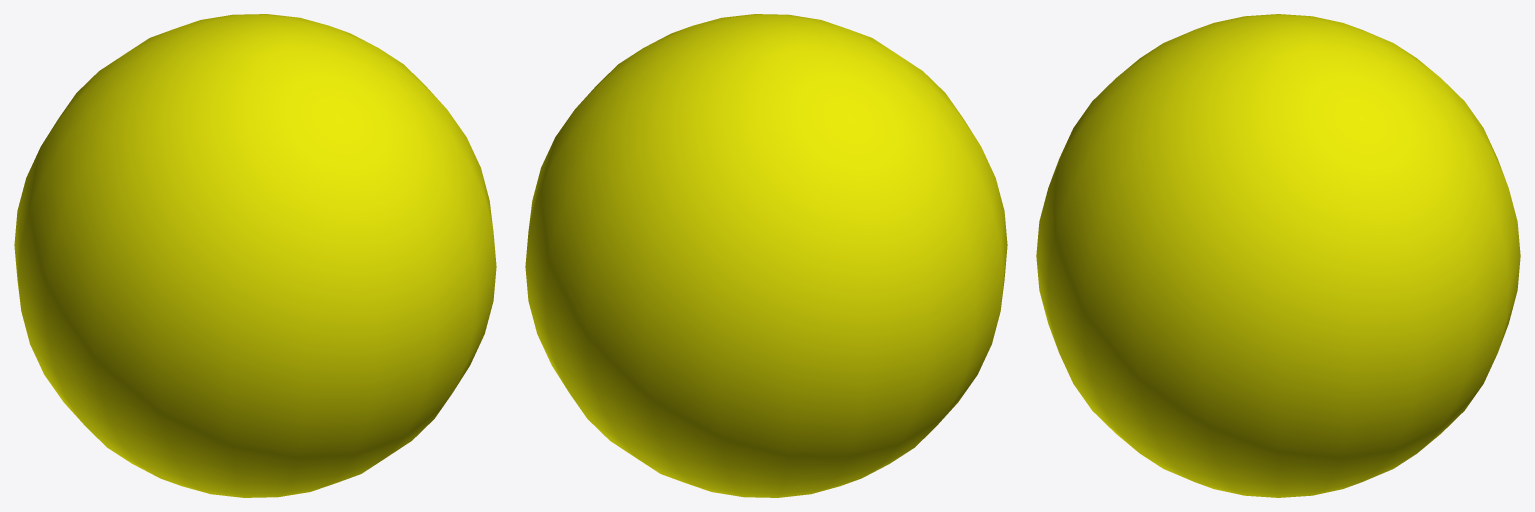
Rendered from Orbs Unity Export 2.fbx.
The picture shows the model from 3 angles, left to right: view 1: azimuth 30°, elevation 25°; view 2: azimuth 150°, elevation 25°; view 3: azimuth 270°, elevation 25°; orthographic projection.
Parts seen in each view (by area): view 1: Divine_Orb_Combined; view 2: Divine_Orb_Combined; view 3: Divine_Orb_Combined.
Part boxes in pixels (left/top/right/bottom): Divine_Orb_Combined: left=14, top=14, right=496, bottom=497; Divine_Orb_Combined: left=525, top=14, right=1007, bottom=497; Divine_Orb_Combined: left=1036, top=14, right=1520, bottom=497.
Bounding box in the file's own units: 140 × 140 × 140.
